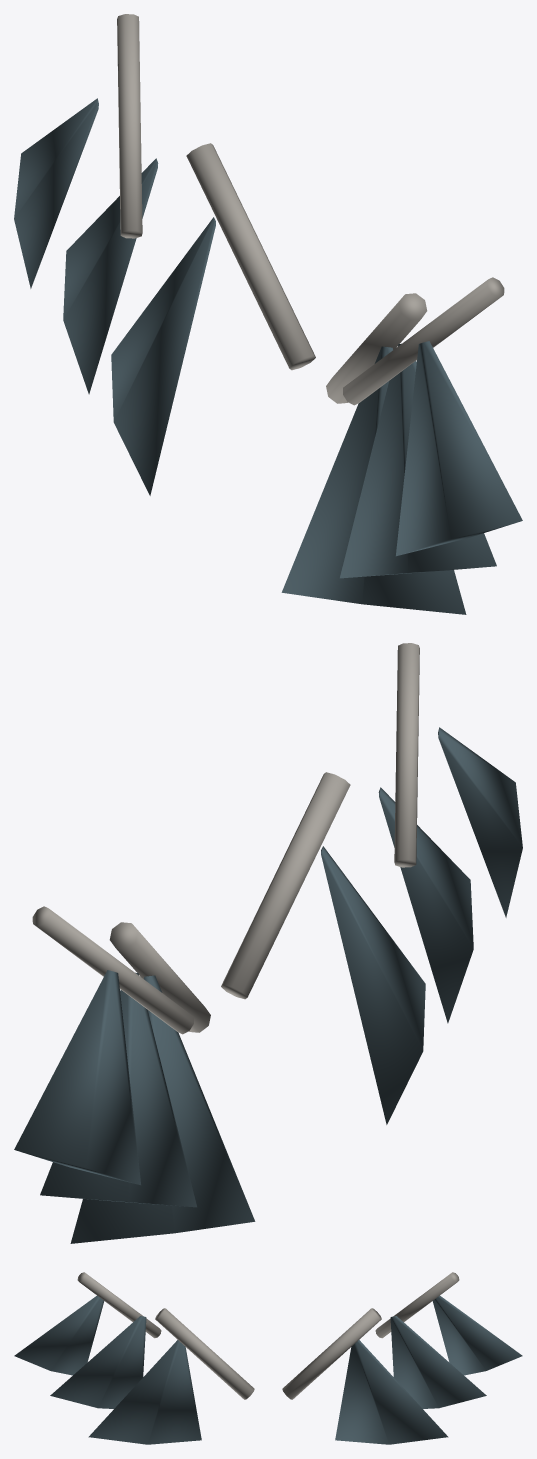
Rendered from SM_Back_DemonWings.fbx.
3 renders of one model, top to bottom at view 1: azimuth 30°, elevation 25°; view 2: azimuth 150°, elevation 25°; view 3: azimuth 270°, elevation 25°, orthographic. The views are drawn at different scales.
Visible parts, largest first — view 1: Cylinder; view 2: Cylinder; view 3: Cylinder.
Boxes of the visible parts, box(x1,y1,x2,y2) form: Cylinder: box(14, 14, 522, 614); Cylinder: box(14, 643, 522, 1243); Cylinder: box(14, 1272, 522, 1444).
Bounding box in the file's own units: 2.8 × 0.3892 × 1.16.
